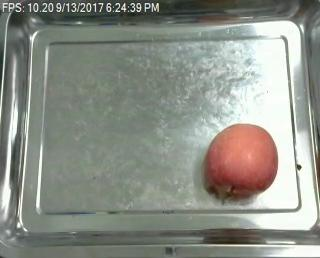apple: (206, 123, 279, 196)
